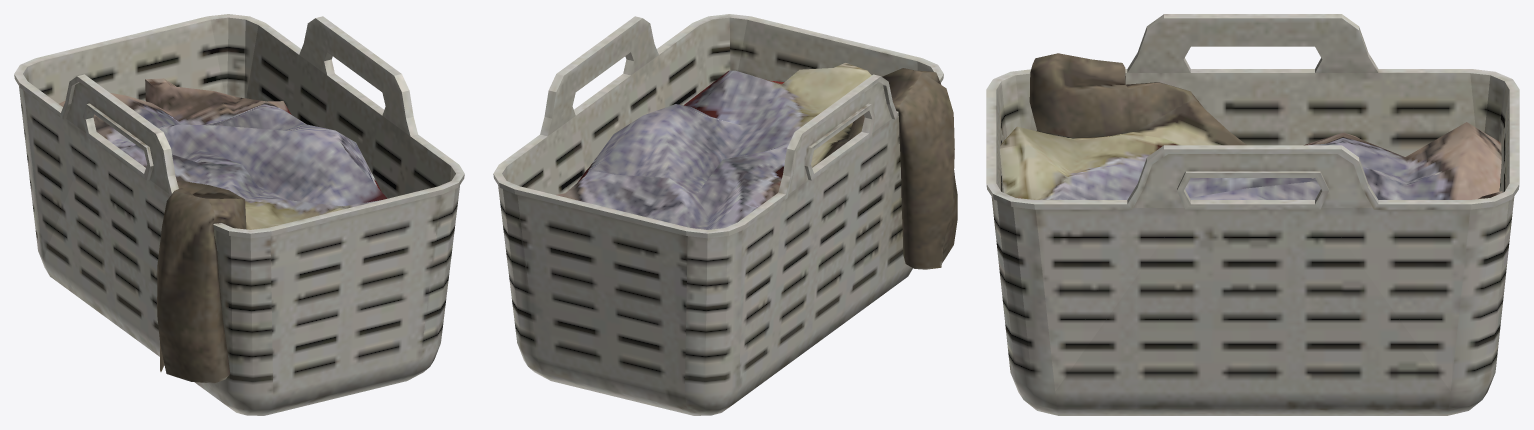
The model's file is 084_BasketWashing.fbx.
3 renders of one model, left to right at view 1: azimuth 30°, elevation 25°; view 2: azimuth 150°, elevation 25°; view 3: azimuth 270°, elevation 25°, orthographic. The views are drawn at different scales.
Visible parts, largest first — view 1: LOD_1_Group_0_Sub_1__sm30_084_BasketWashing01A_A_Mat; view 2: LOD_1_Group_0_Sub_1__sm30_084_BasketWashing01A_A_Mat; view 3: LOD_1_Group_0_Sub_1__sm30_084_BasketWashing01A_A_Mat.
Part boxes in pixels (left/top/right/bottom): LOD_1_Group_0_Sub_1__sm30_084_BasketWashing01A_A_Mat: left=14, top=14, right=464, bottom=415; LOD_1_Group_0_Sub_1__sm30_084_BasketWashing01A_A_Mat: left=493, top=14, right=957, bottom=415; LOD_1_Group_0_Sub_1__sm30_084_BasketWashing01A_A_Mat: left=986, top=14, right=1519, bottom=415.
Size of the model in its own units: 0.4485 by 0.3925 by 0.6527.
